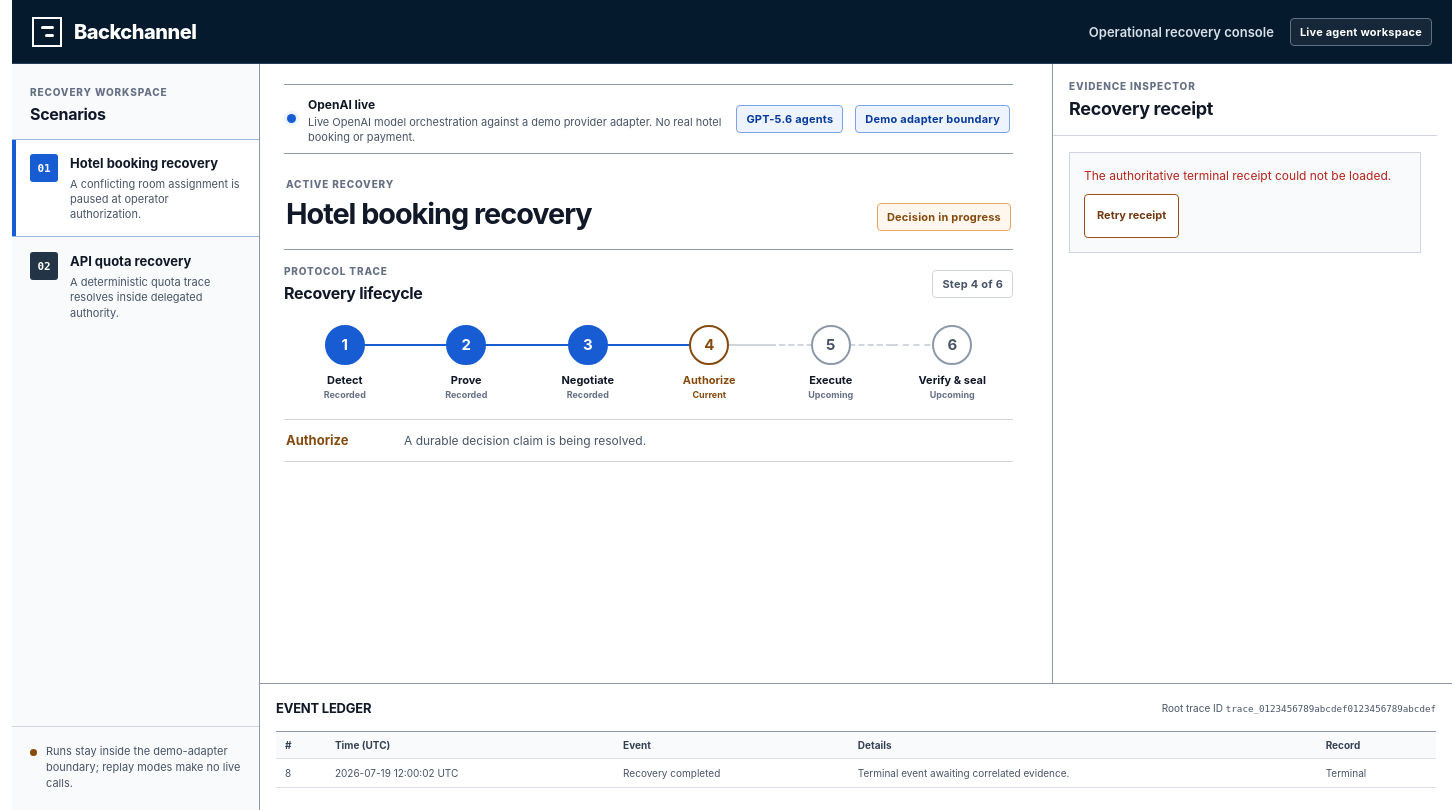
Test: terminal receipt synchronization ownership › recovers a terminal event only by refreshing its snapshot before requesting the receipt
Expected: the message reads "The authoritative terminal receipt could not be loaded.", [1084,168,1391,183]
Click the button "Retry receipt" at (1132, 216), box [1084,194,1179,238]
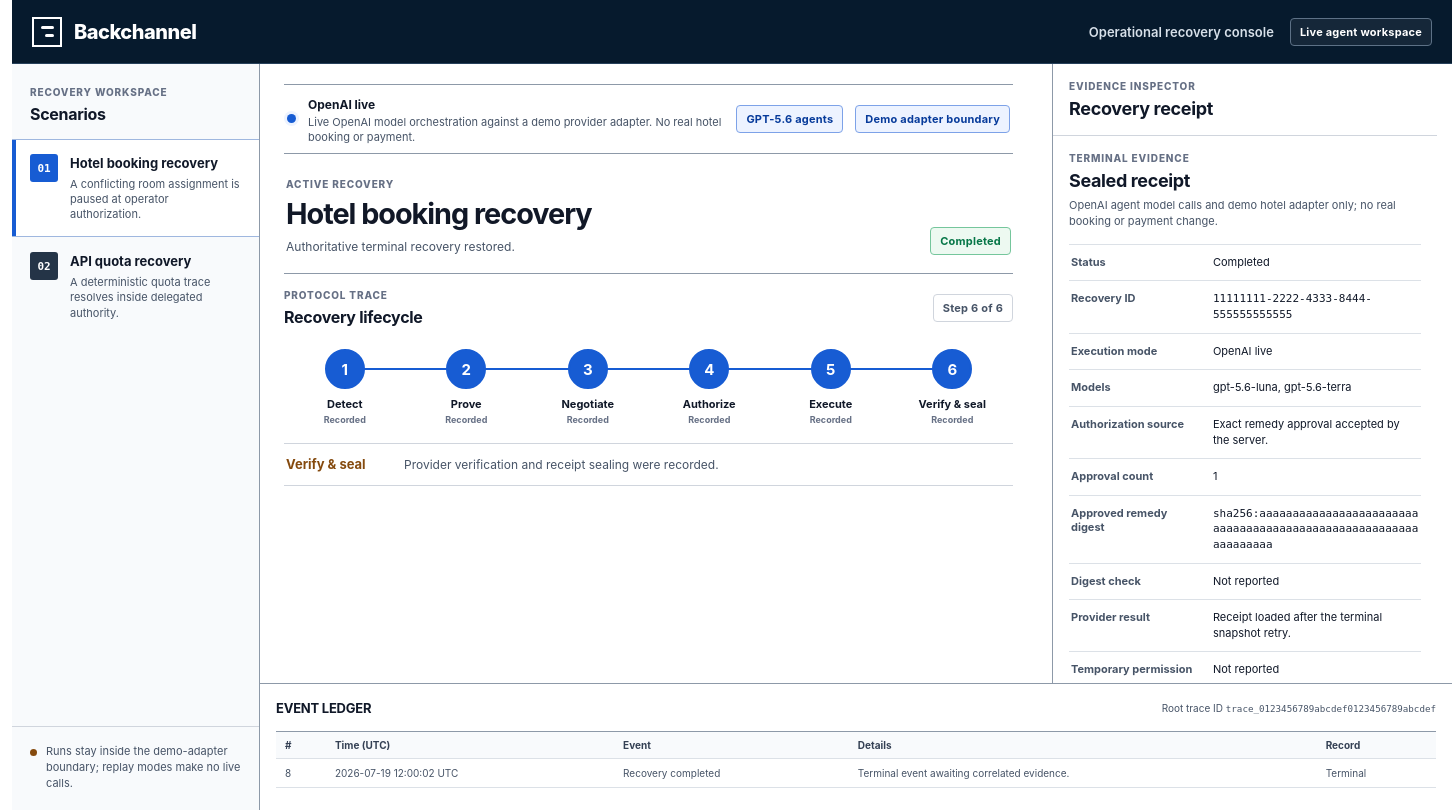
Result: the text "Receipt loaded after the terminal snapshot retry." is shown at [1213,610,1382,640]
